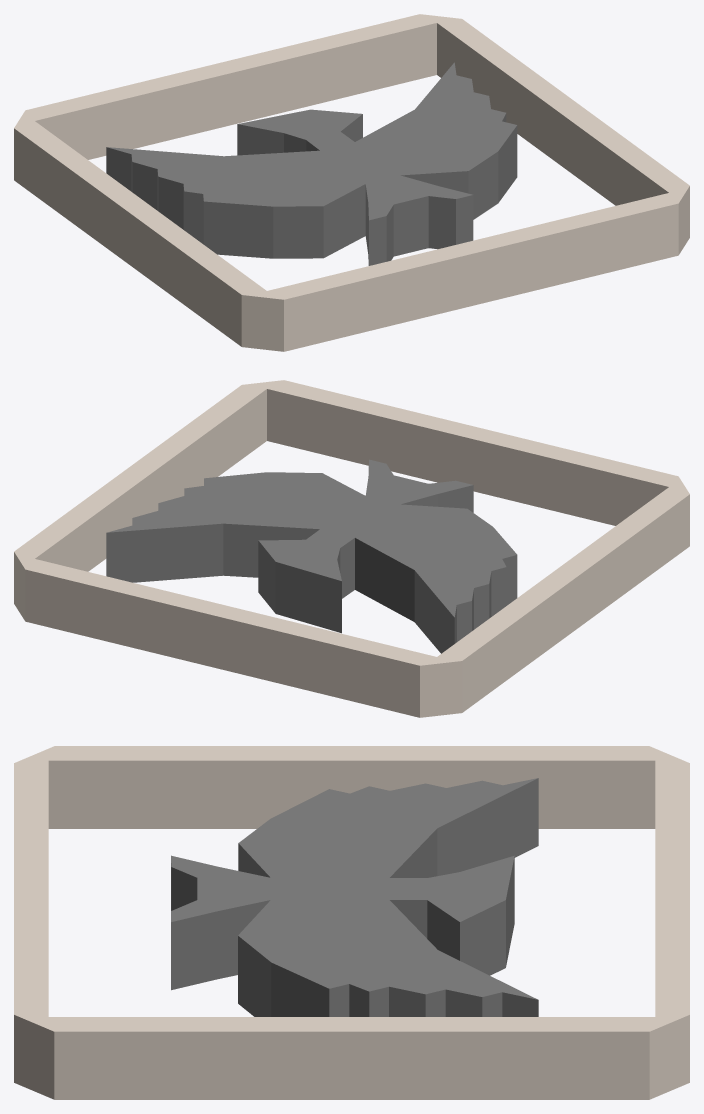
File: bonus_base_armor.glb
3 renders of one model, top to bottom at view 1: azimuth 30°, elevation 25°; view 2: azimuth 150°, elevation 25°; view 3: azimuth 270°, elevation 25°, orthographic. The views are drawn at different scales.
Visible parts, largest first — view 1: bonus_base_armor; view 2: bonus_base_armor; view 3: bonus_base_armor.
Boxes of the visible parts, bbox=[...] form: bonus_base_armor: bbox=[14, 14, 689, 351]; bonus_base_armor: bbox=[14, 380, 689, 717]; bonus_base_armor: bbox=[14, 746, 689, 1099].
Bounding box in the file's own units: 1.8 × 0.2 × 1.8.
1 material, 1 textured.
